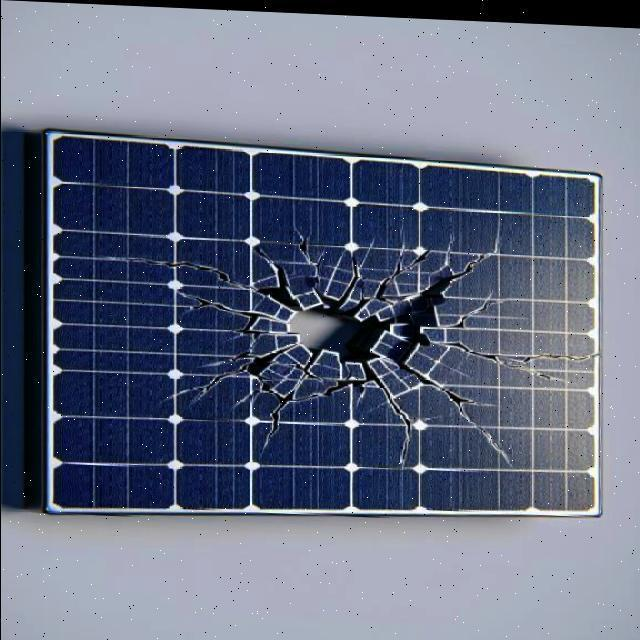Anomaly Solar Panel: (50, 130, 599, 530)
Structural Damage: (402, 337, 537, 462), (232, 340, 372, 448), (276, 282, 446, 363), (342, 359, 445, 461), (432, 329, 602, 379), (99, 239, 259, 288), (169, 281, 286, 345), (163, 346, 254, 413), (365, 225, 434, 306), (437, 278, 505, 338), (243, 324, 300, 381), (256, 263, 312, 319), (287, 215, 337, 274), (451, 235, 502, 278), (196, 337, 264, 368), (338, 244, 374, 301), (428, 226, 456, 281), (278, 348, 325, 378), (417, 274, 455, 298), (248, 238, 277, 262), (360, 233, 377, 264)
